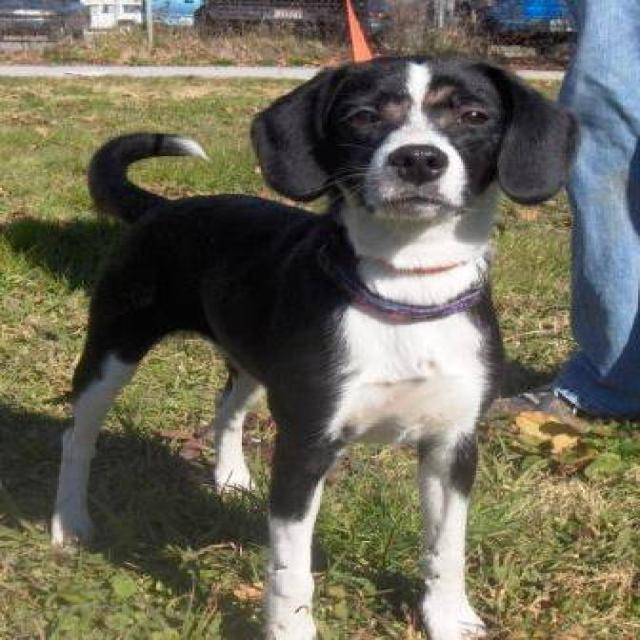dog: (48, 52, 577, 638)
